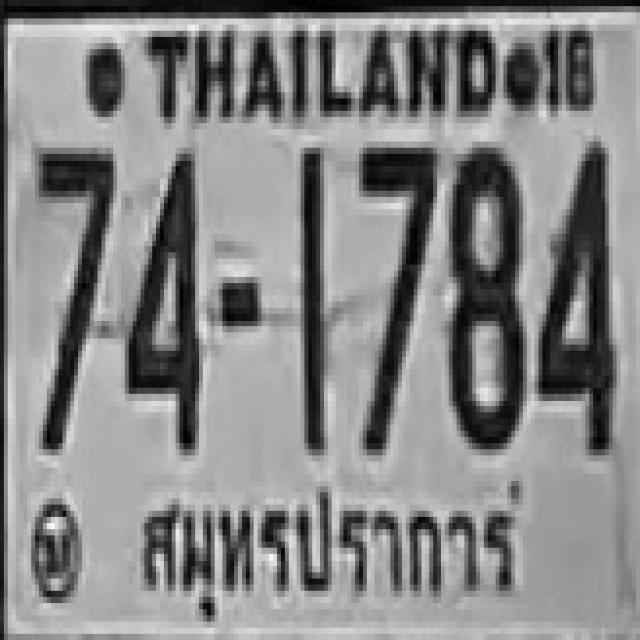1: (296, 148, 324, 455)
4: (534, 136, 612, 450), (121, 145, 199, 446)
7: (355, 142, 433, 449), (35, 142, 113, 449), (355, 141, 433, 357)
8: (445, 142, 523, 443)
SamutPrakan: (120, 466, 530, 636)
